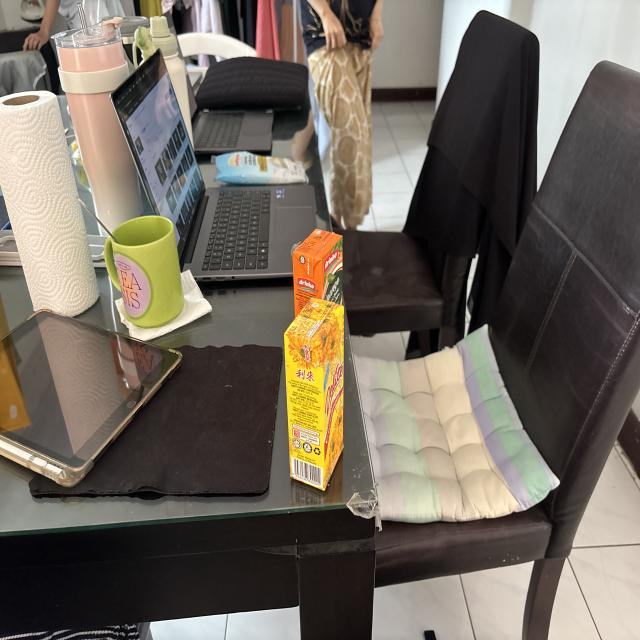drink_carton: (280, 293, 354, 502), (288, 219, 348, 321)
